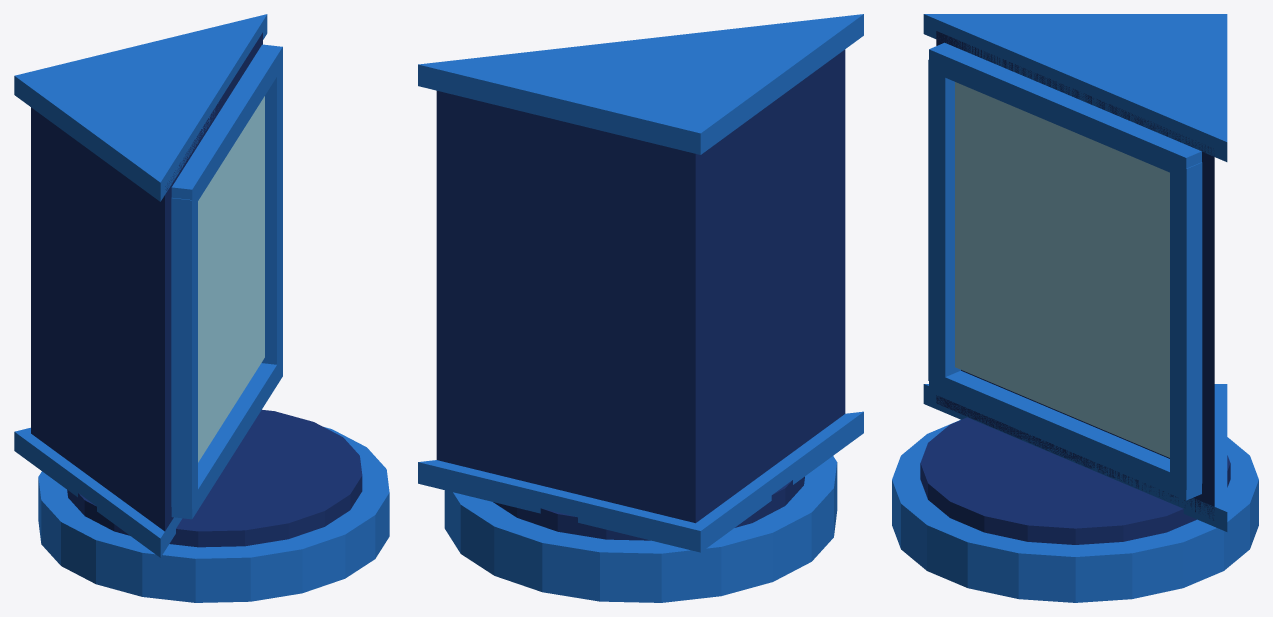
Rendered from single_mirror_blue.glb.
3 views of the same model, side by side, from view 1: azimuth 30°, elevation 25°; view 2: azimuth 150°, elevation 25°; view 3: azimuth 270°, elevation 25° (orthographic). The views are drawn at different scales.
Visible parts, largest first — view 1: single_mirror_blue_Triangular_Prism_Body, single_mirror_blue_Top_Triangular_Cap, single_mirror_blue_Base_Main, single_mirror_blue_Mirror_Face, single_mirror_blue_Base_Rim, single_mirror_blue_Mirror_Frame_L, single_mirror_blue_Mirror_Frame_T, single_mirror_blue_Mirror_Frame_R, single_mirror_blue_Bottom_Triangular_Cap, single_mirror_blue_Mirror_Frame_B; view 2: single_mirror_blue_Triangular_Prism_Body, single_mirror_blue_Top_Triangular_Cap, single_mirror_blue_Base_Main, single_mirror_blue_Bottom_Triangular_Cap, single_mirror_blue_Base_Rim; view 3: single_mirror_blue_Mirror_Face, single_mirror_blue_Top_Triangular_Cap, single_mirror_blue_Base_Main, single_mirror_blue_Base_Rim, single_mirror_blue_Mirror_Frame_R, single_mirror_blue_Mirror_Frame_T, single_mirror_blue_Mirror_Frame_B, single_mirror_blue_Triangular_Prism_Body, single_mirror_blue_Mirror_Frame_L, single_mirror_blue_Bottom_Triangular_Cap.
Part boxes in pixels (x1,y1,x2,y2): single_mirror_blue_Triangular_Prism_Body: (31,32,262,531); single_mirror_blue_Top_Triangular_Cap: (14,14,267,201); single_mirror_blue_Base_Main: (38,427,389,602); single_mirror_blue_Mirror_Face: (198,96,264,462); single_mirror_blue_Base_Rim: (67,409,362,547); single_mirror_blue_Mirror_Frame_L: (171,192,197,509); single_mirror_blue_Mirror_Frame_T: (171,44,282,209); single_mirror_blue_Mirror_Frame_R: (261,57,282,374); single_mirror_blue_Bottom_Triangular_Cap: (14,427,182,557); single_mirror_blue_Mirror_Frame_B: (171,363,282,519); single_mirror_blue_Triangular_Prism_Body: (436,49,845,523); single_mirror_blue_Top_Triangular_Cap: (418,14,863,154); single_mirror_blue_Base_Main: (444,456,837,602); single_mirror_blue_Bottom_Triangular_Cap: (418,411,863,552); single_mirror_blue_Base_Rim: (493,476,804,540); single_mirror_blue_Mirror_Face: (955,82,1169,457); single_mirror_blue_Top_Triangular_Cap: (923,14,1227,161); single_mirror_blue_Base_Main: (892,420,1258,602); single_mirror_blue_Base_Rim: (920,417,1230,544); single_mirror_blue_Mirror_Frame_R: (1170,162,1202,489); single_mirror_blue_Mirror_Frame_T: (929,42,1201,178); single_mirror_blue_Mirror_Frame_B: (929,370,1201,500); single_mirror_blue_Triangular_Prism_Body: (936,31,1214,520); single_mirror_blue_Mirror_Frame_L: (928,59,960,387); single_mirror_blue_Bottom_Triangular_Cap: (923,384,1227,531).
Size of the model in its own units: 1.16 by 1.56 by 1.16.
